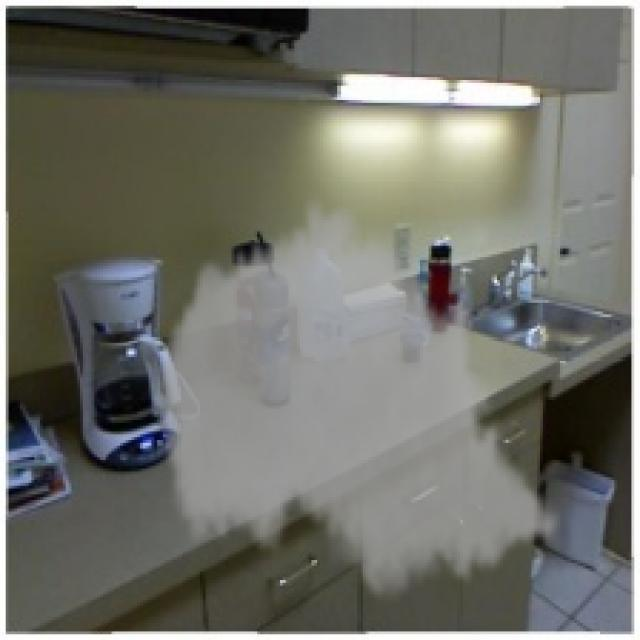Smoke: (151, 192, 563, 612)
